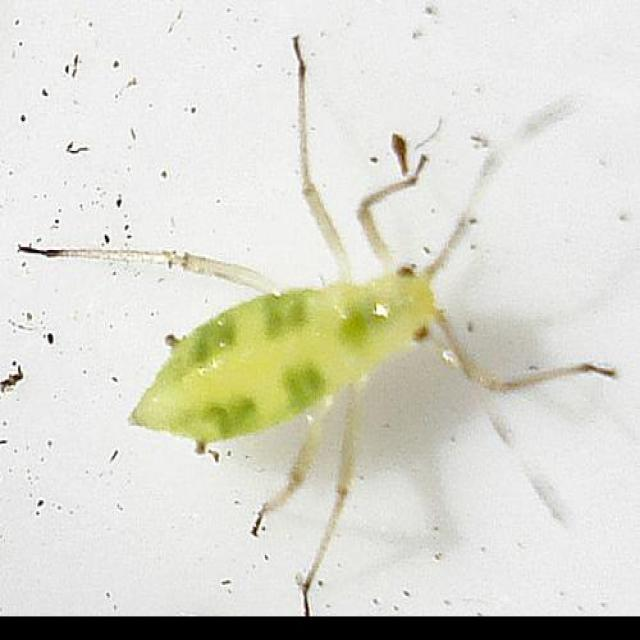Aphids: (28, 68, 620, 585)
